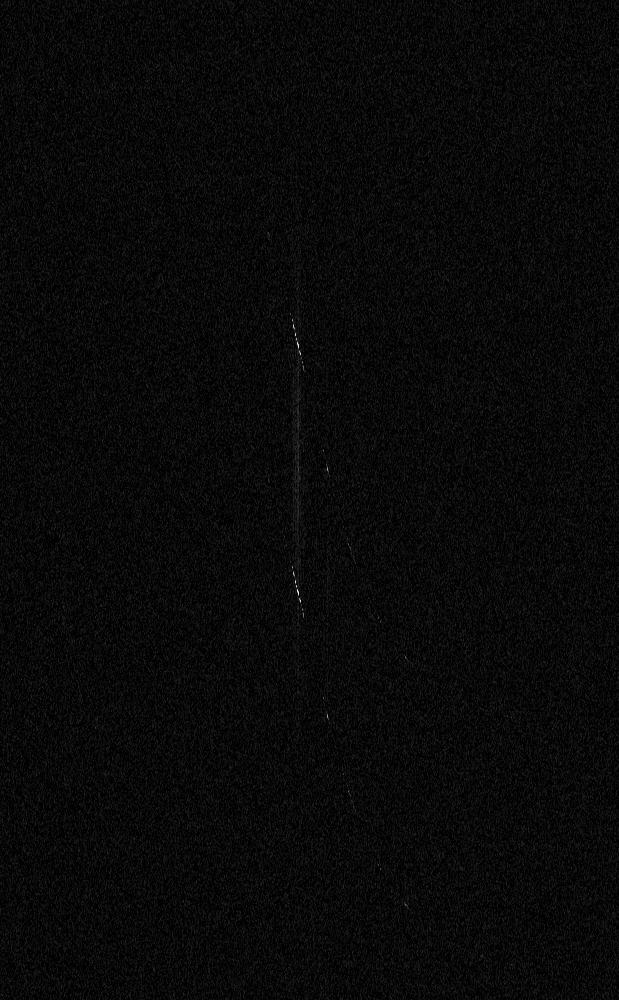signal: (0, 0, 618, 999)
